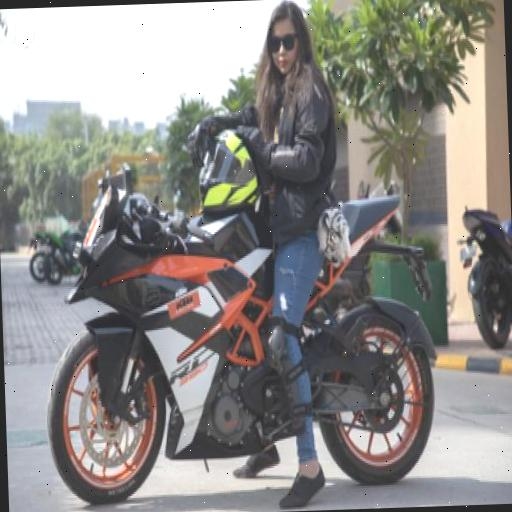no helmet: (203, 0, 332, 149)
